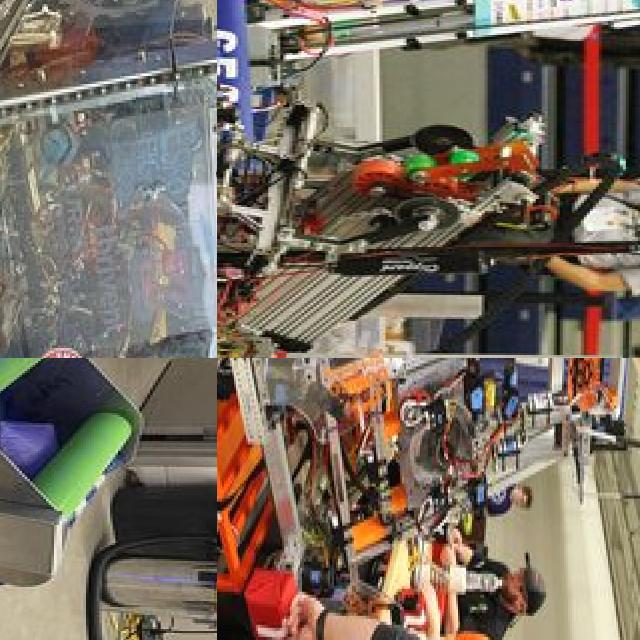FRC-Robots: (217, 358, 640, 640), (217, 55, 573, 358), (0, 0, 217, 358), (217, 0, 640, 130), (0, 358, 150, 640)
